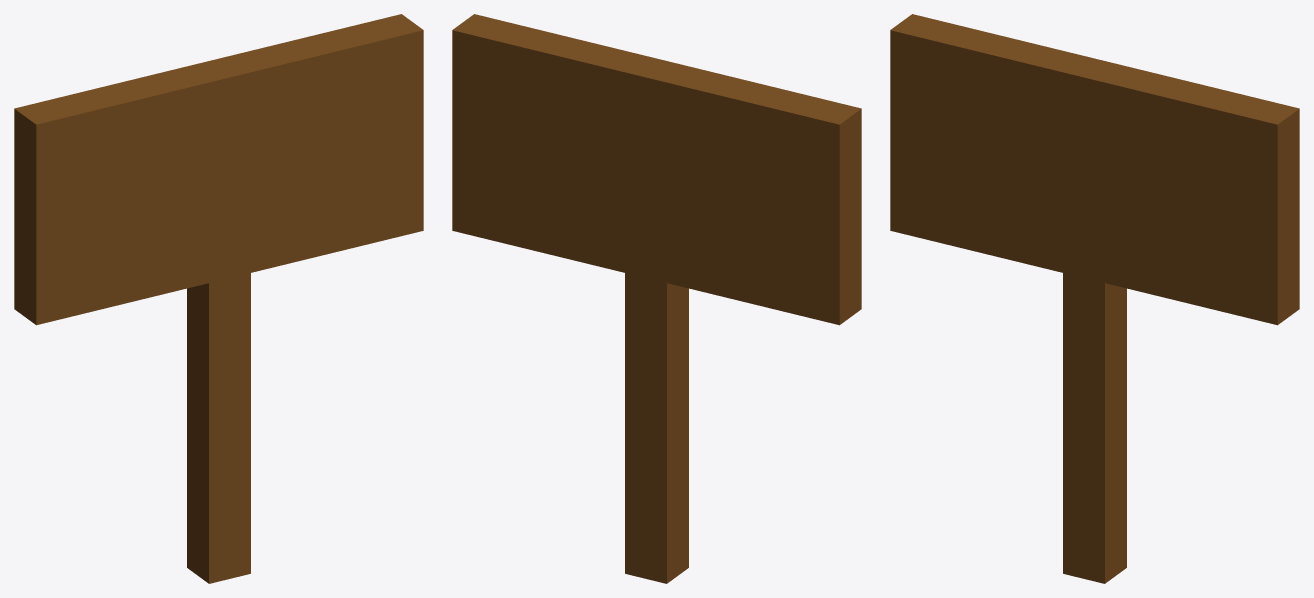
The model's file is Sign.fbx.
3 renders of one model, left to right at view 1: azimuth 30°, elevation 25°; view 2: azimuth 150°, elevation 25°; view 3: azimuth 330°, elevation 25°, orthographic.
Visible parts, largest first — view 1: Cube; view 2: Cube; view 3: Cube.
Part boxes in pixels (x1,y1,x2,y2): Cube: (14, 14, 423, 583); Cube: (452, 14, 861, 583); Cube: (890, 14, 1299, 583).
Size of the model in its own units: 404 by 500 by 40.
